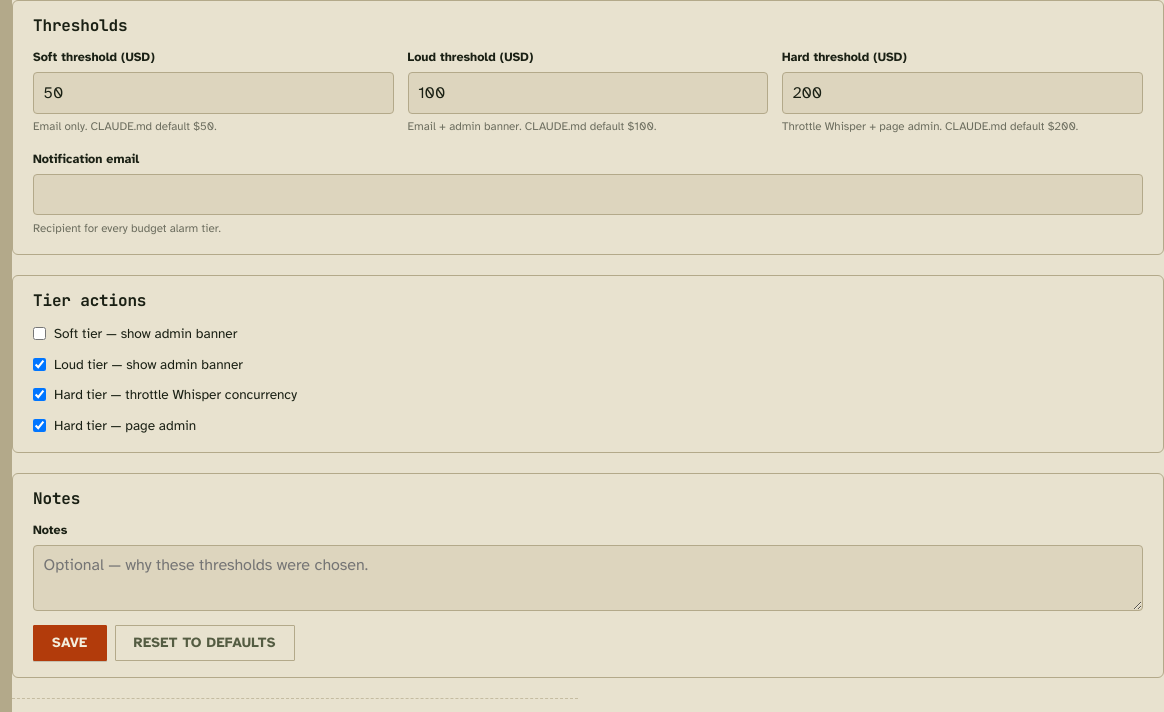
Test: BudgetConfigEditor › blocks save and shows a field error when ordering is violated
Step 1. Replace the text in the number field labelled "Loud threshold (USD)" with "40" → [588, 93], box 408,72 -> 768,114
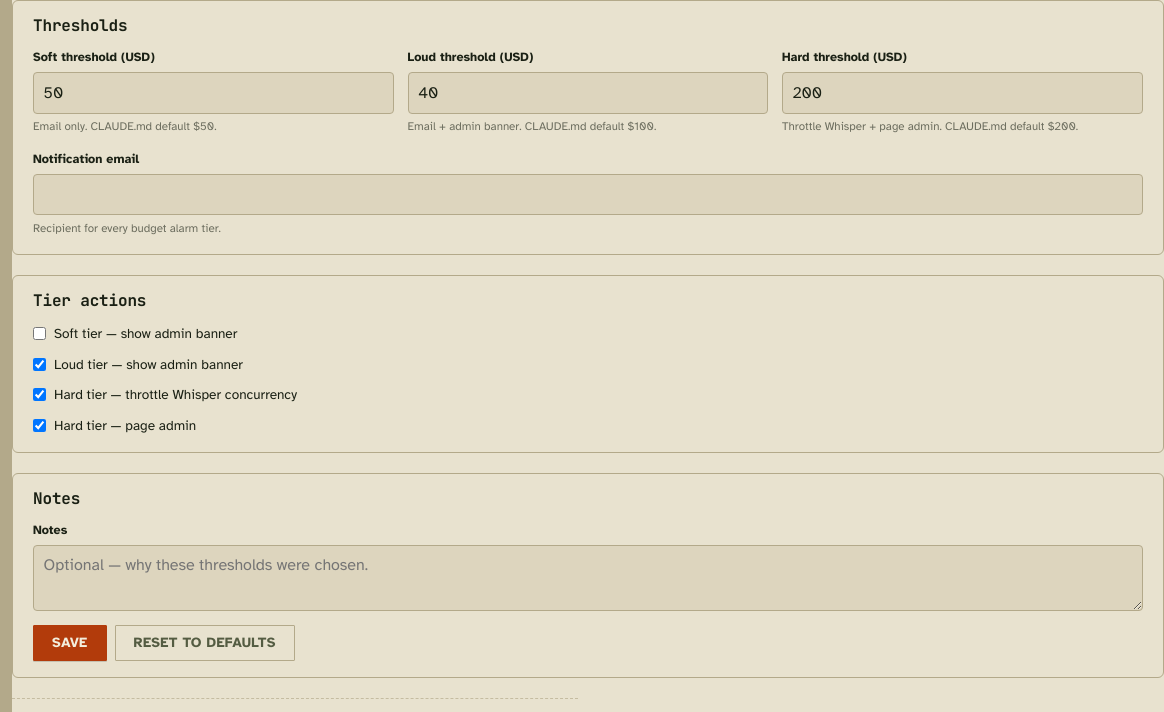
Step 2. Click the button "Save" → [70, 643], box 33,625 -> 106,661
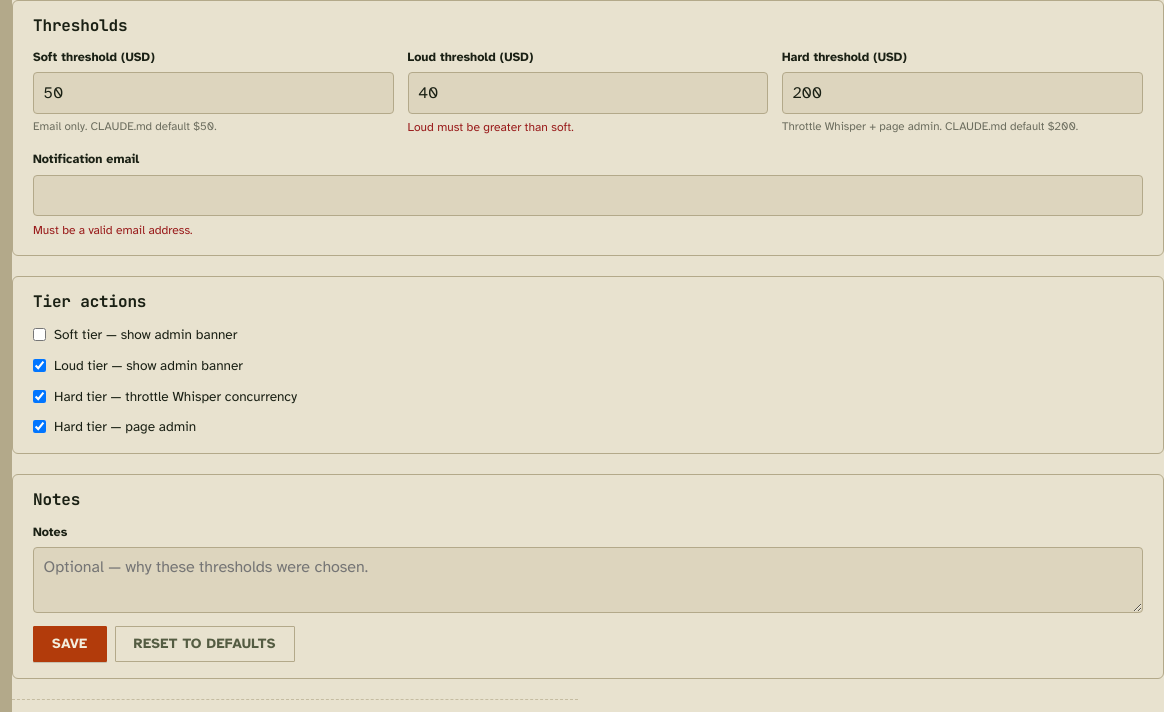
Now the text "Loud must be greater than soft." is shown, box 408,120 -> 574,134
